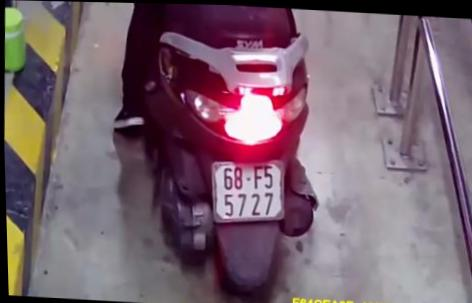LP: (209, 159, 287, 227)
